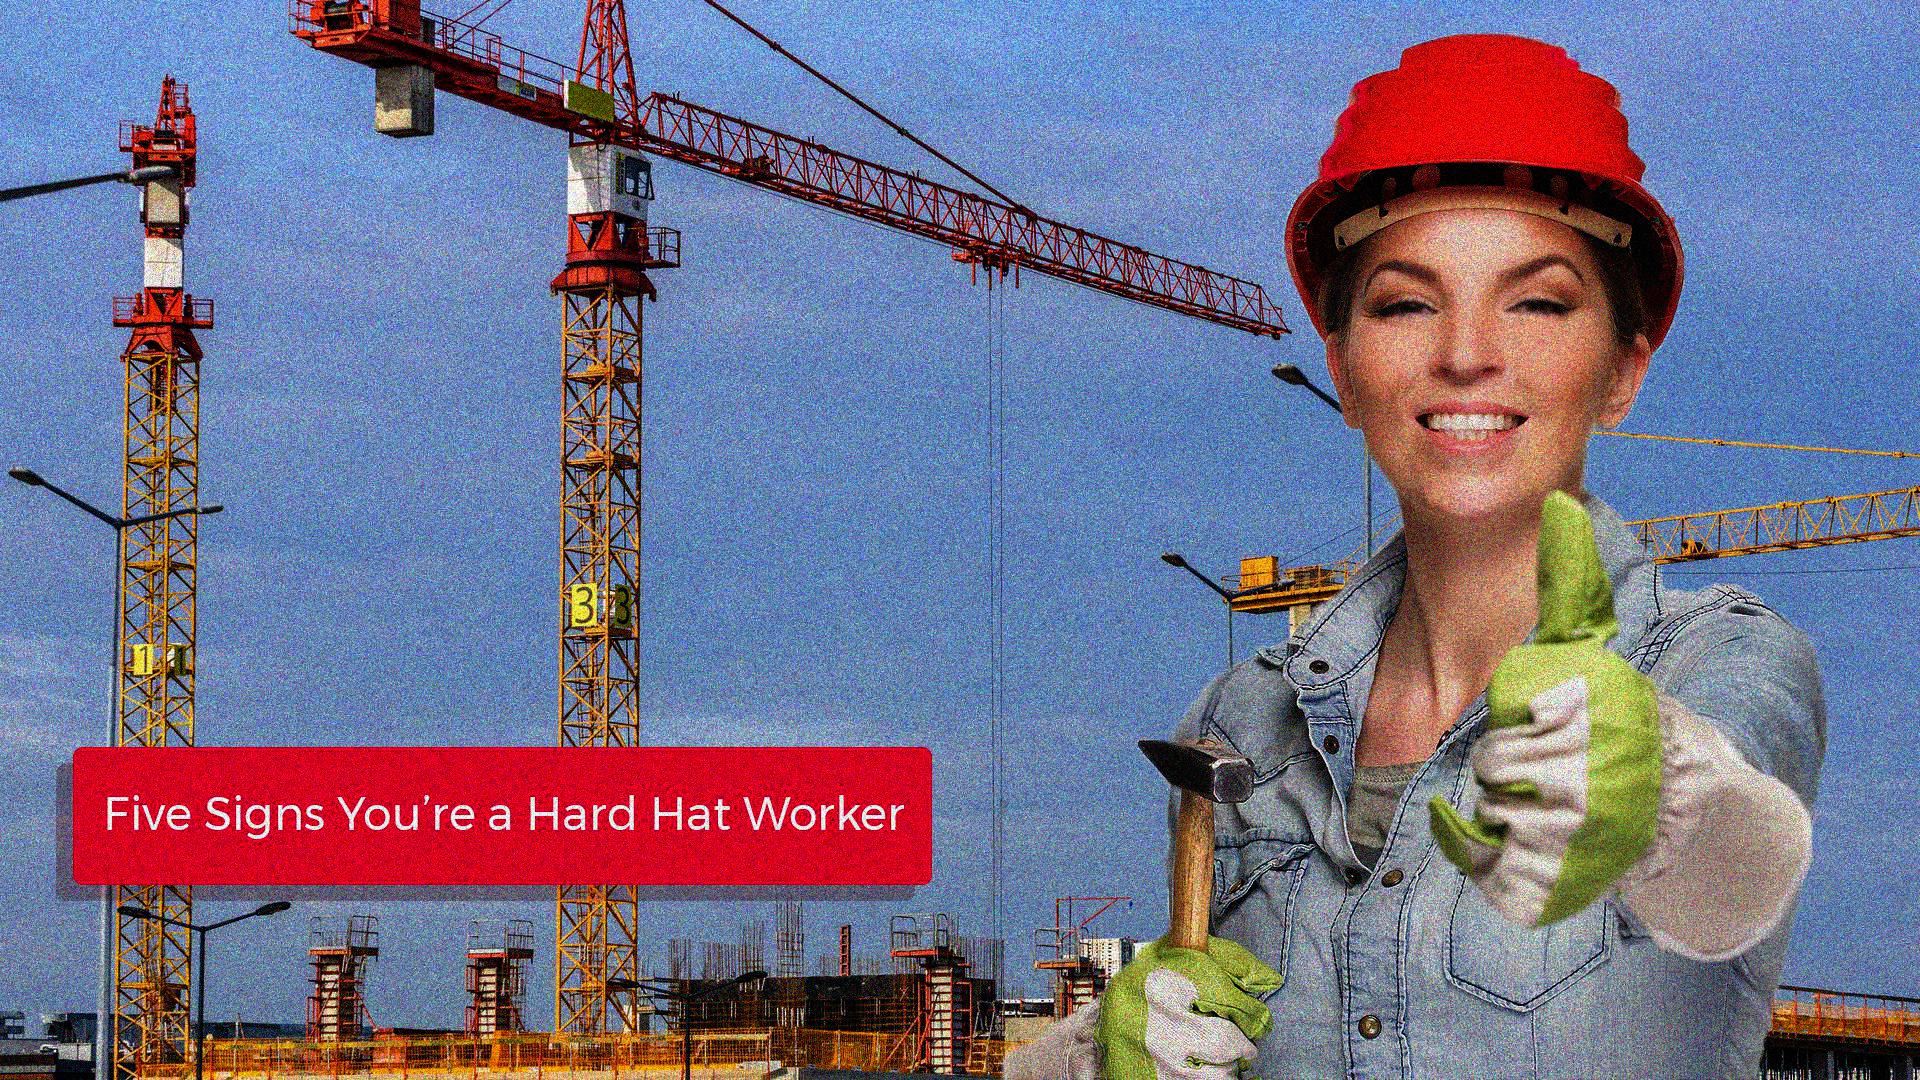helmet: (1278, 26, 1691, 506)
